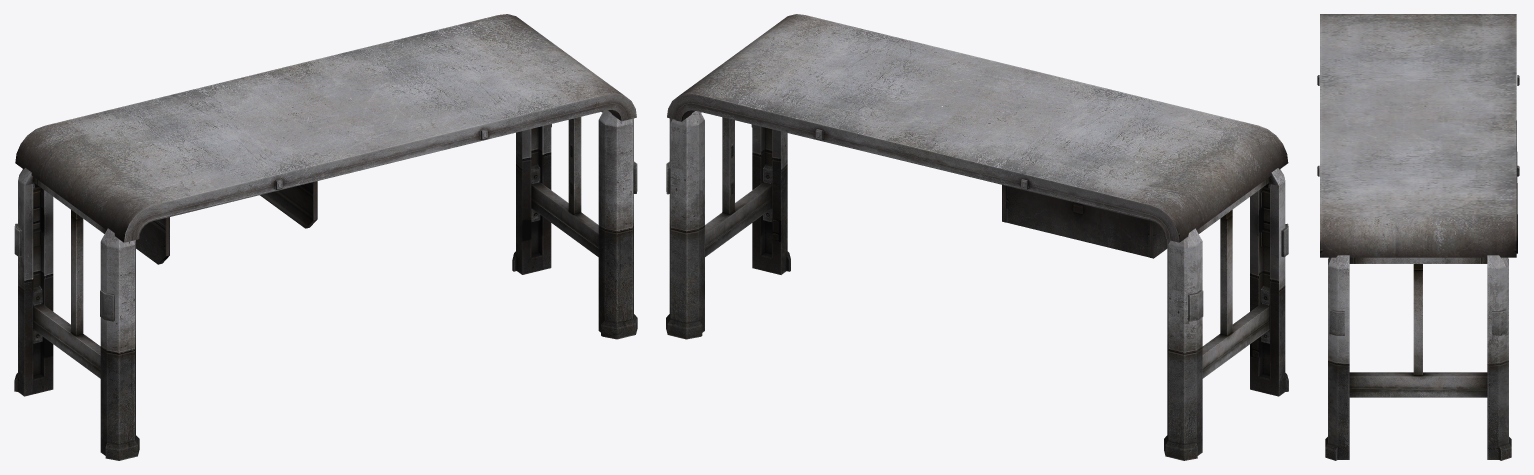
The model's file is table_sturdy_large_drawer.dae.
The picture shows the model from 3 angles, left to right: view 1: azimuth 30°, elevation 25°; view 2: azimuth 150°, elevation 25°; view 3: azimuth 270°, elevation 25°; orthographic projection. The views are drawn at different scales.
Visible parts, largest first — view 1: large_drawer; view 2: large_drawer; view 3: large_drawer.
Part boxes in pixels (left/top/right/bottom): large_drawer: left=14, top=14, right=637, bottom=460; large_drawer: left=666, top=14, right=1288, bottom=460; large_drawer: left=1317, top=14, right=1519, bottom=460.
Size of the model in its own units: 2.36 by 1.06 by 0.8571.
